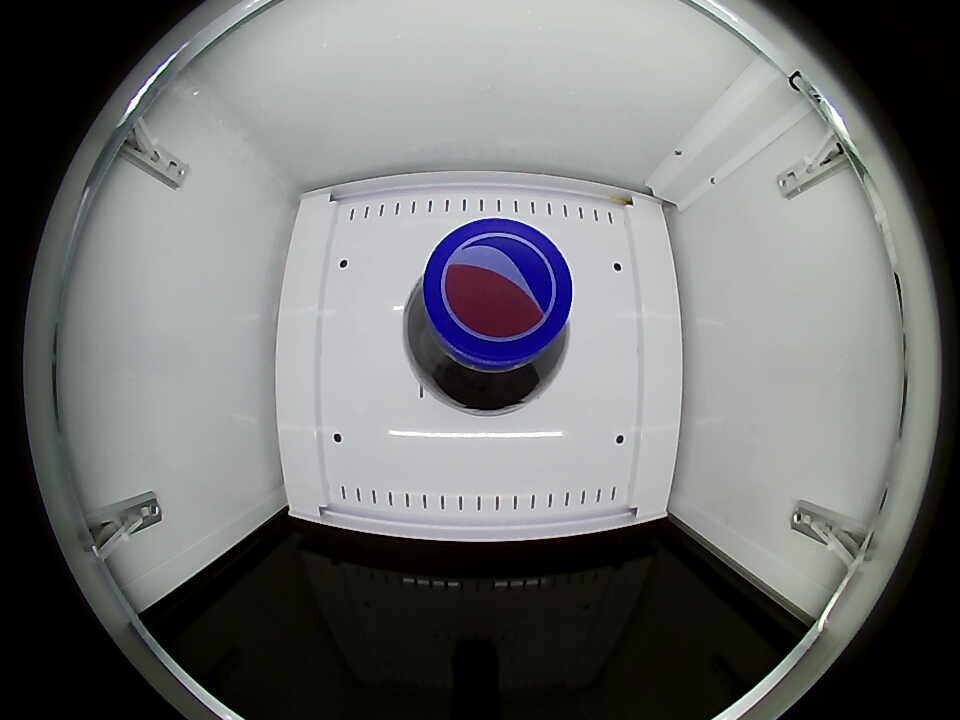baishikele-2: (407, 217, 573, 413)
